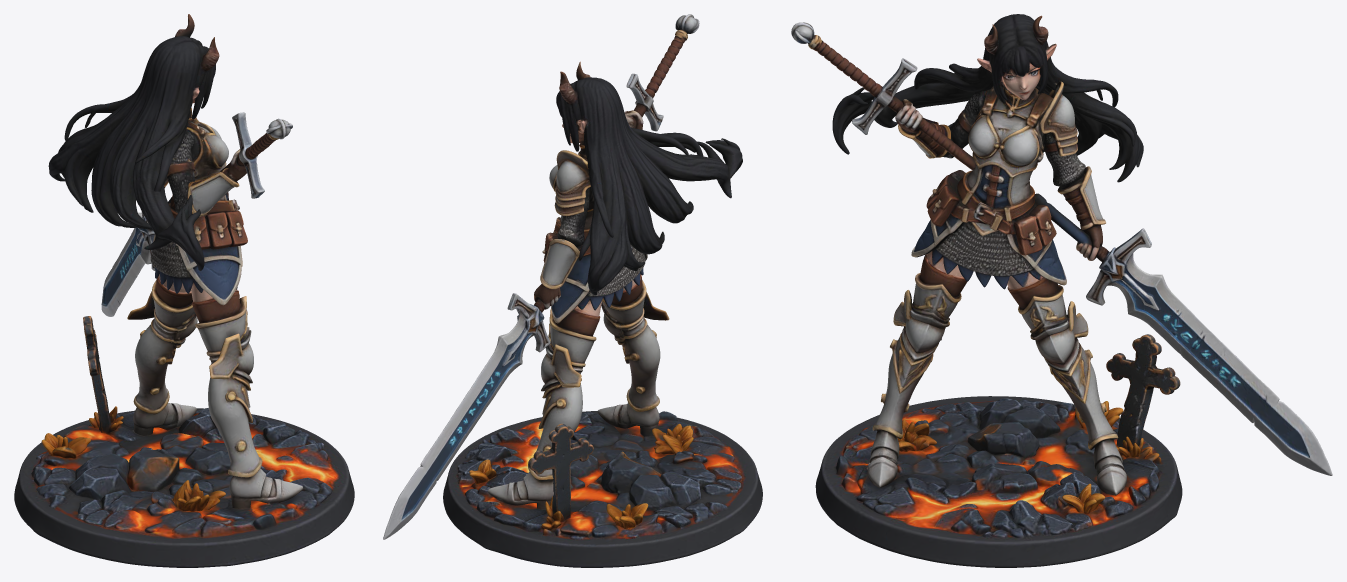
File: inspiration-432.glb
3 renders of one model, left to right at view 1: azimuth 30°, elevation 25°; view 2: azimuth 150°, elevation 25°; view 3: azimuth 270°, elevation 25°, orthographic. The views are drawn at different scales.
Parts seen in each view (by area): view 1: tripo_node_d67230b5-ccbb-4861-a6af-89df53cd0e4e; view 2: tripo_node_d67230b5-ccbb-4861-a6af-89df53cd0e4e; view 3: tripo_node_d67230b5-ccbb-4861-a6af-89df53cd0e4e.
Part boxes in pixels (x1,y1,x2,y2): tripo_node_d67230b5-ccbb-4861-a6af-89df53cd0e4e: (14, 14, 354, 567); tripo_node_d67230b5-ccbb-4861-a6af-89df53cd0e4e: (383, 14, 762, 567); tripo_node_d67230b5-ccbb-4861-a6af-89df53cd0e4e: (791, 14, 1332, 567).
Bounding box in the file's own units: 0.6652 × 1 × 0.9974.
Materials: 1 (1 with a texture image).
